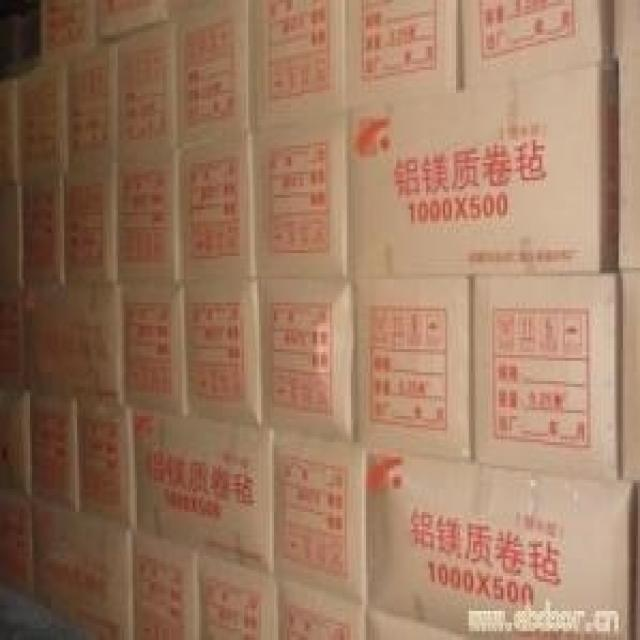box: (345, 61, 619, 273), (368, 448, 636, 640), (473, 273, 623, 480), (133, 410, 274, 576), (353, 273, 473, 465), (272, 428, 368, 605), (259, 276, 355, 445), (253, 116, 347, 279), (460, 0, 619, 93), (32, 497, 133, 640), (248, 0, 345, 131), (24, 282, 122, 407), (180, 131, 259, 282), (345, 0, 462, 99), (176, 0, 253, 148), (184, 279, 261, 425), (122, 282, 186, 416), (116, 23, 178, 160), (118, 148, 180, 282), (77, 399, 137, 532), (133, 532, 199, 640), (64, 160, 118, 285), (66, 44, 118, 172), (199, 553, 274, 640), (616, 0, 640, 271), (272, 573, 368, 640), (17, 58, 66, 186), (32, 396, 77, 515), (21, 175, 66, 291), (619, 271, 640, 480), (41, 0, 98, 67), (0, 489, 34, 599), (0, 390, 34, 500), (368, 605, 473, 640), (98, 0, 173, 47), (0, 186, 21, 291), (0, 291, 21, 393), (0, 81, 19, 192), (171, 0, 235, 23)
